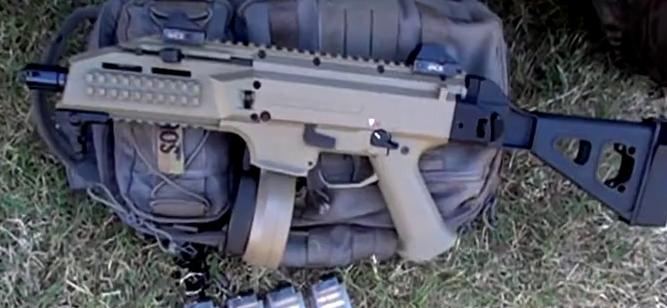gun: (1, 1, 667, 308)
